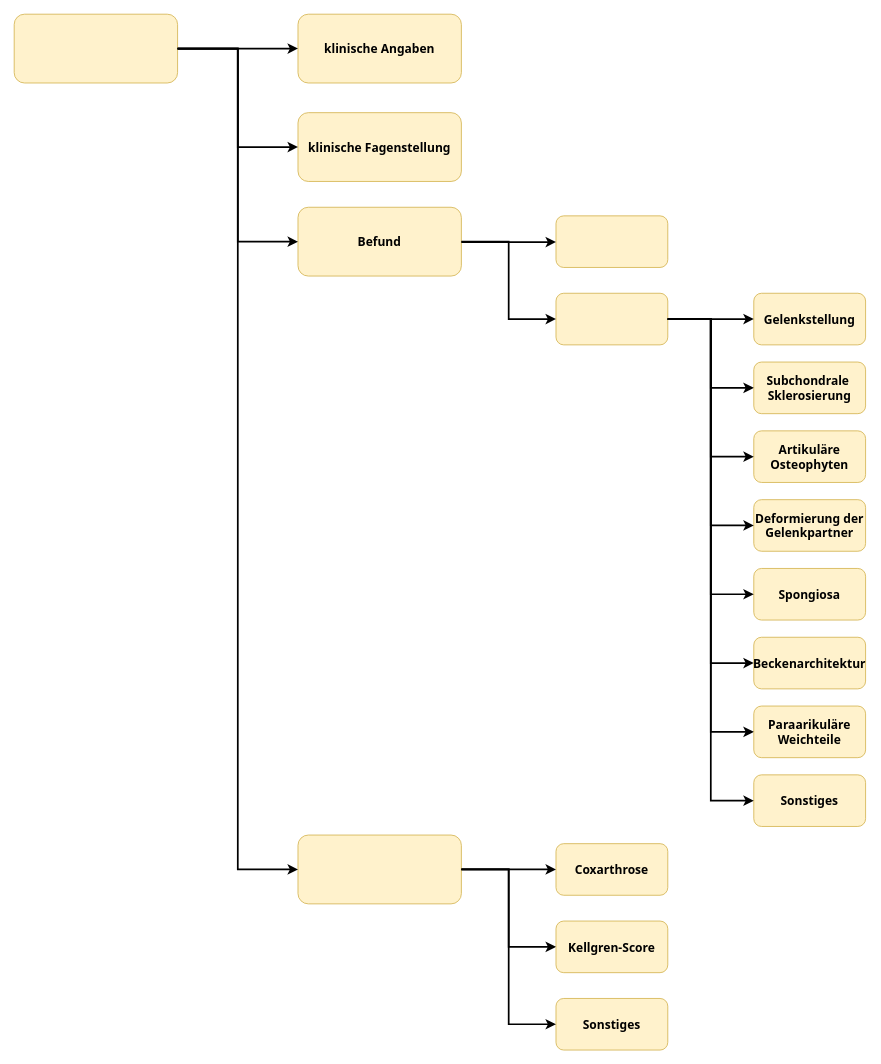
Image size: 881x1064. Some labels were removed from this diagram. The shapes that lost their labels are listed below. From the top down, each one's centre as x and y in pixels, then its label:
At point (95, 48): "CR Hüftendoprothetik".
At point (611, 241): "Bildqualität".
At point (611, 318): "Beurteiltes Hüftgelenk".
At point (379, 869): "Beurteilung".
